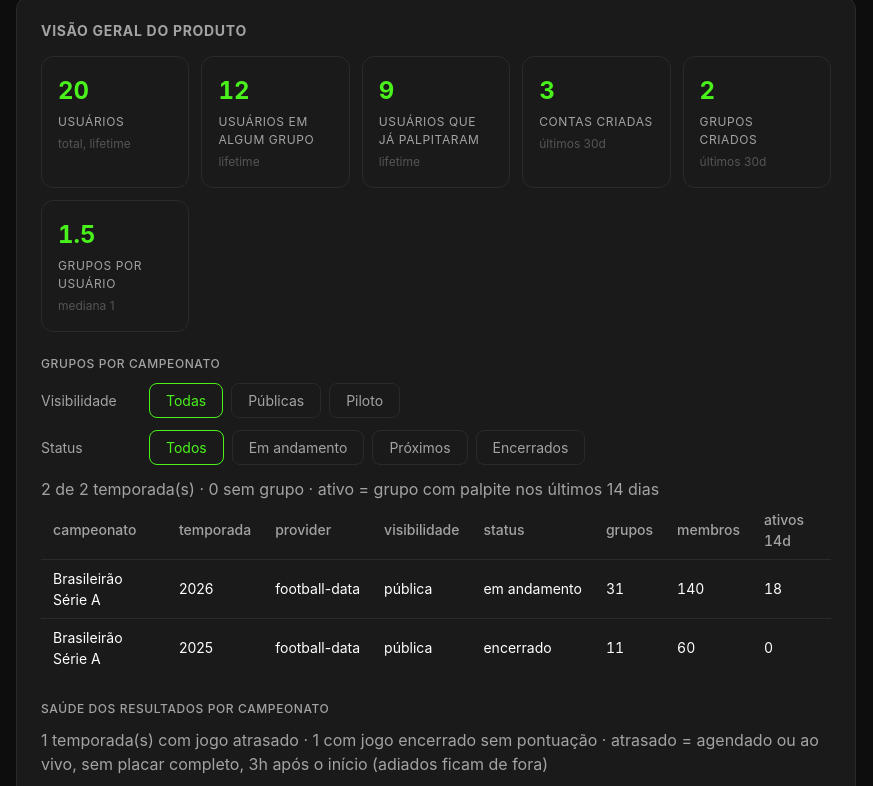
Test case: AdminMetricsPage · grupos por campeonato › avisa quando nenhum campeonato atende aos filtros
(page scrolled)
Check: the heading "Grupos por campeonato" is shown, box x1=41 y1=356 x2=220 y2=370
Click the button "Piloto": (365, 400) x1=329 y1=382 x2=400 y2=418
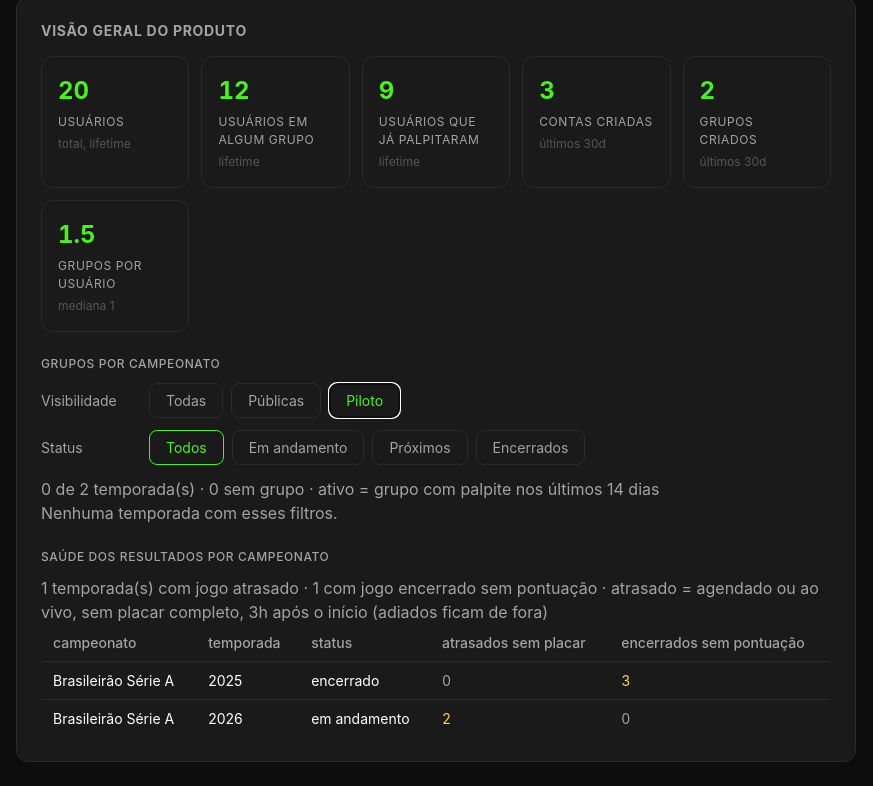
Check: the text "Nenhuma temporada com esses filtros." is shown, box x1=41 y1=502 x2=338 y2=522
